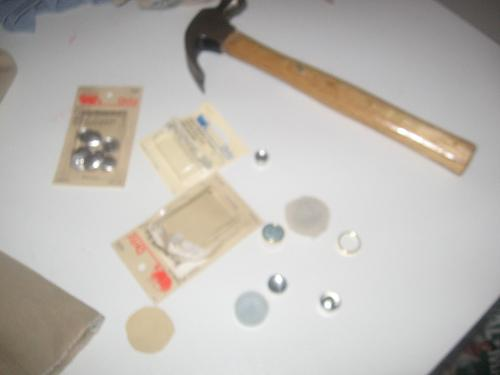hammer: (182, 0, 478, 178)
